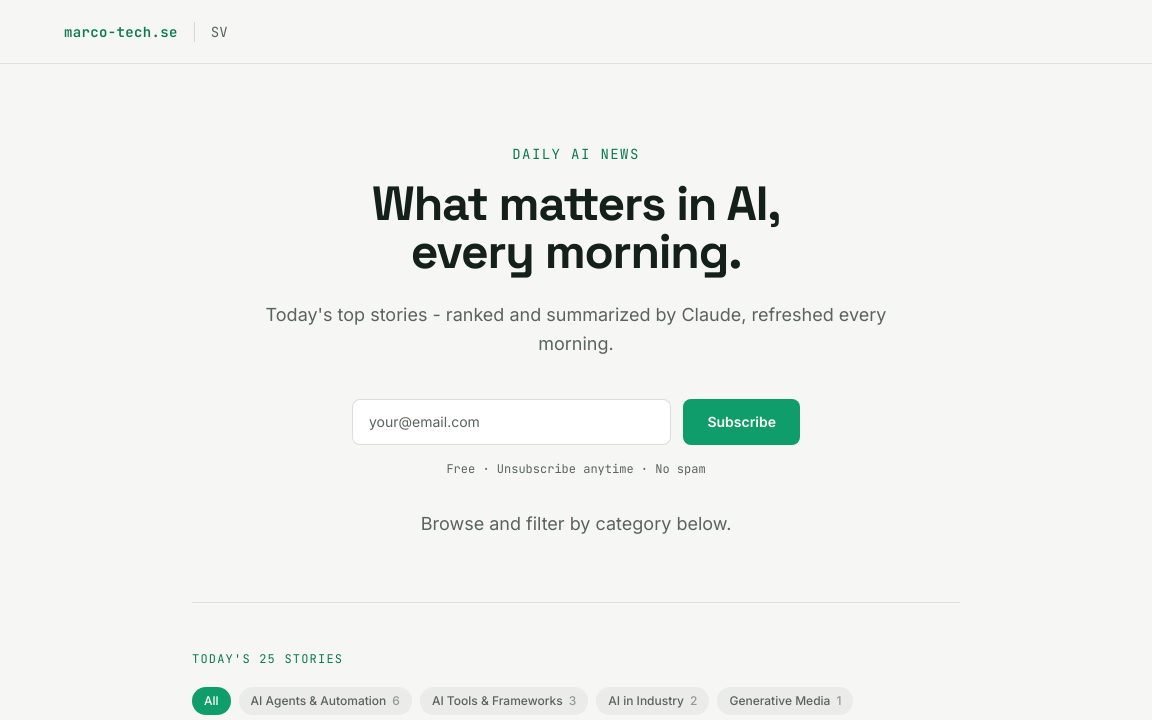
Test: AI News page › shows loading state while submitting
This screenshot has width=1152, height=720.
In the field named "Email address": (512, 422) x1=352 y1=398 x2=671 y2=444, type "test@example.com"
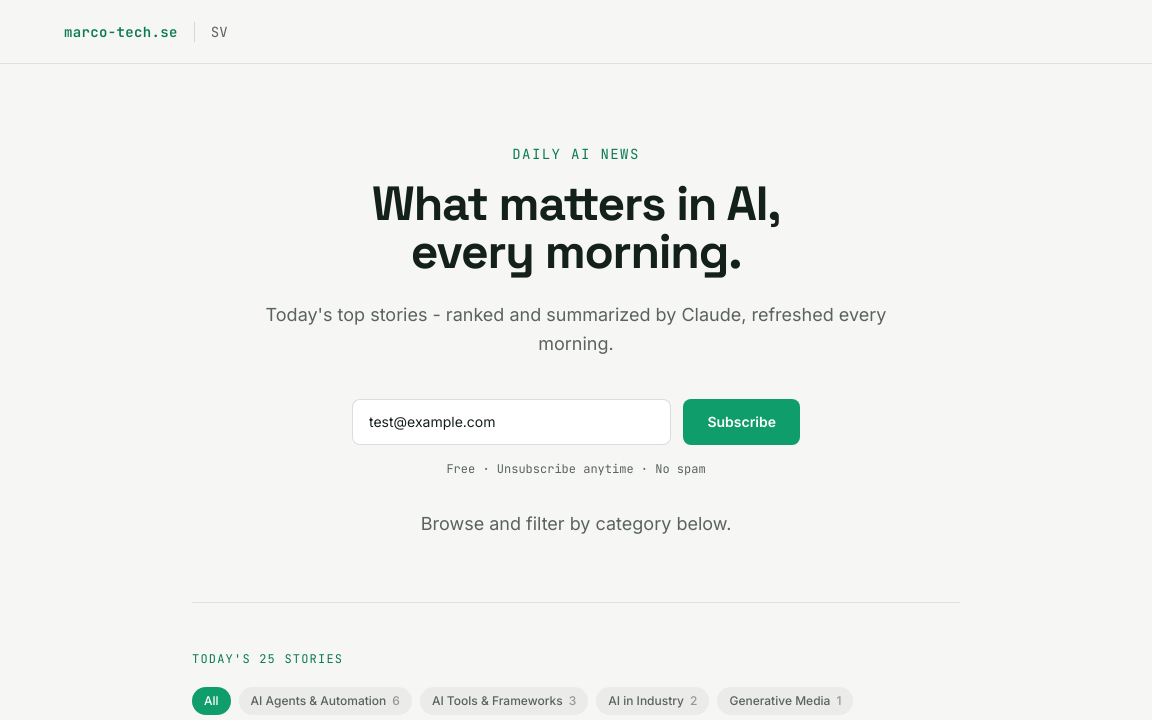
Click the button "Subscribe": (742, 422) x1=683 y1=398 x2=800 y2=444
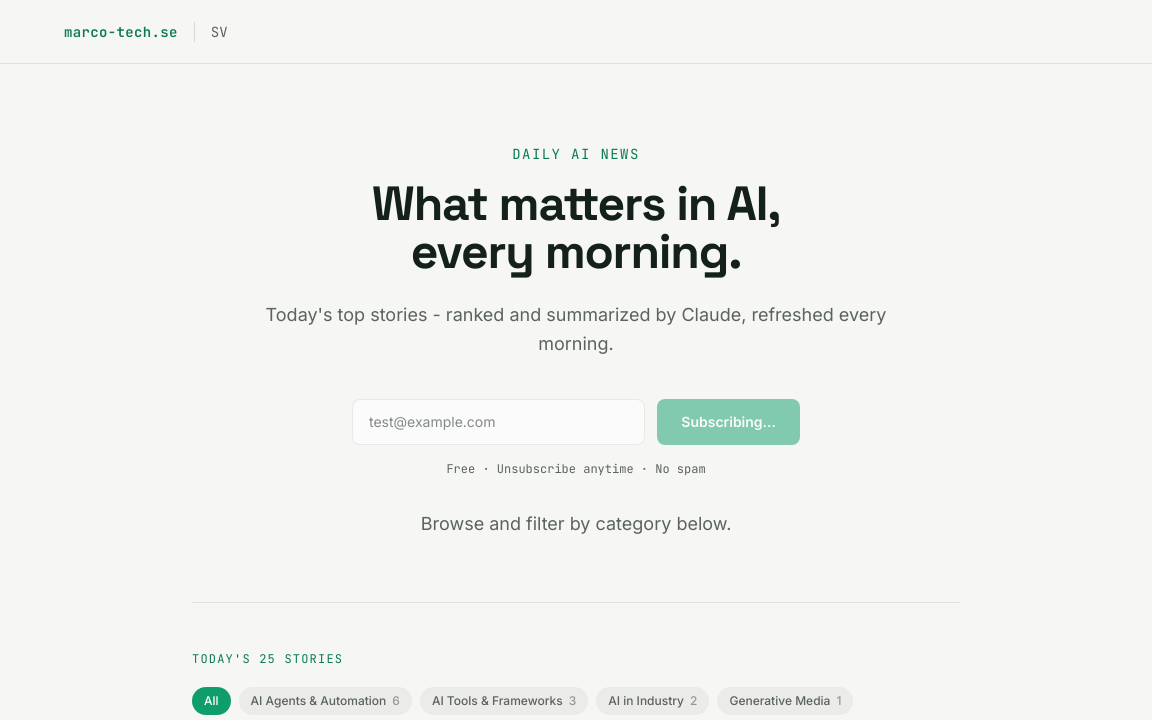
Expected: the button "Subscribing…" is shown, x1=657 y1=398 x2=800 y2=444
